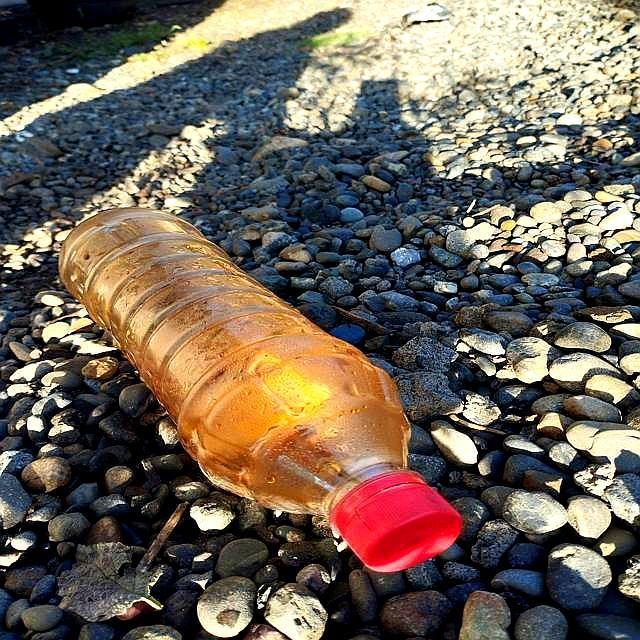Non-biodegradable: (57, 205, 466, 576)
